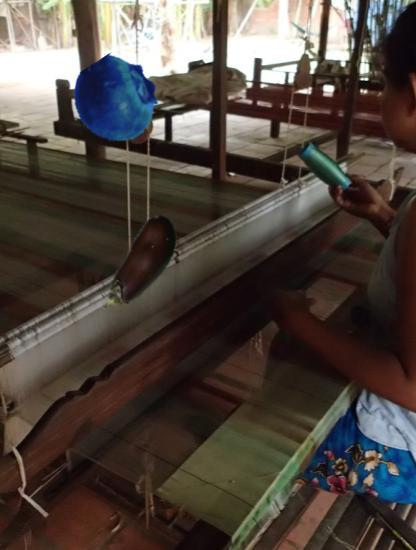Eggplant: (88, 210, 199, 321)
Huckleberry: (73, 57, 159, 143)
